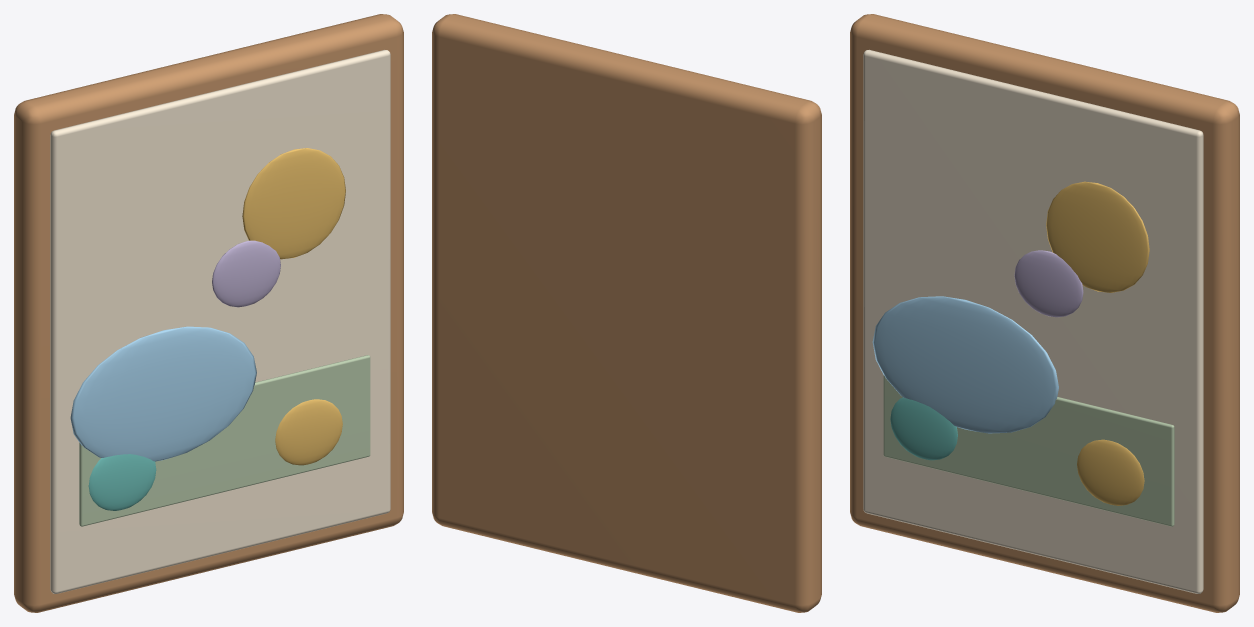
Rendered from officePictureFrame.glb.
3 views of the same model, side by side, from view 1: azimuth 30°, elevation 25°; view 2: azimuth 150°, elevation 25°; view 3: azimuth 330°, elevation 25° (orthographic).
Parts seen in each view (by area): view 1: Paper, Frame, Landscape hill, Landscape, Illustrated sun, Abstract motif.002, Abstract motif.003, Abstract motif; view 2: Frame; view 3: Paper, Frame, Landscape hill, Landscape, Illustrated sun, Abstract motif.002, Abstract motif.003, Abstract motif.
Boxes of the visible parts, x1,y1,x2,y2 form: Paper: [50, 49, 390, 593]; Frame: [14, 14, 403, 612]; Landscape hill: [70, 326, 256, 461]; Landscape: [79, 355, 370, 526]; Illustrated sun: [242, 148, 345, 259]; Abstract motif.002: [212, 240, 280, 307]; Abstract motif.003: [275, 399, 342, 465]; Abstract motif: [88, 454, 156, 510]; Frame: [432, 14, 821, 612]; Paper: [863, 49, 1203, 593]; Frame: [850, 14, 1239, 612]; Landscape hill: [872, 296, 1058, 433]; Landscape: [883, 375, 1174, 526]; Illustrated sun: [1046, 181, 1149, 292]; Abstract motif.002: [1014, 250, 1083, 317]; Abstract motif.003: [1077, 439, 1144, 505]; Abstract motif: [890, 397, 957, 460].
Size of the model in its own units: 1.1 by 1.4 by 0.15.
